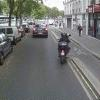Motorcycle: (53, 28, 78, 70)
